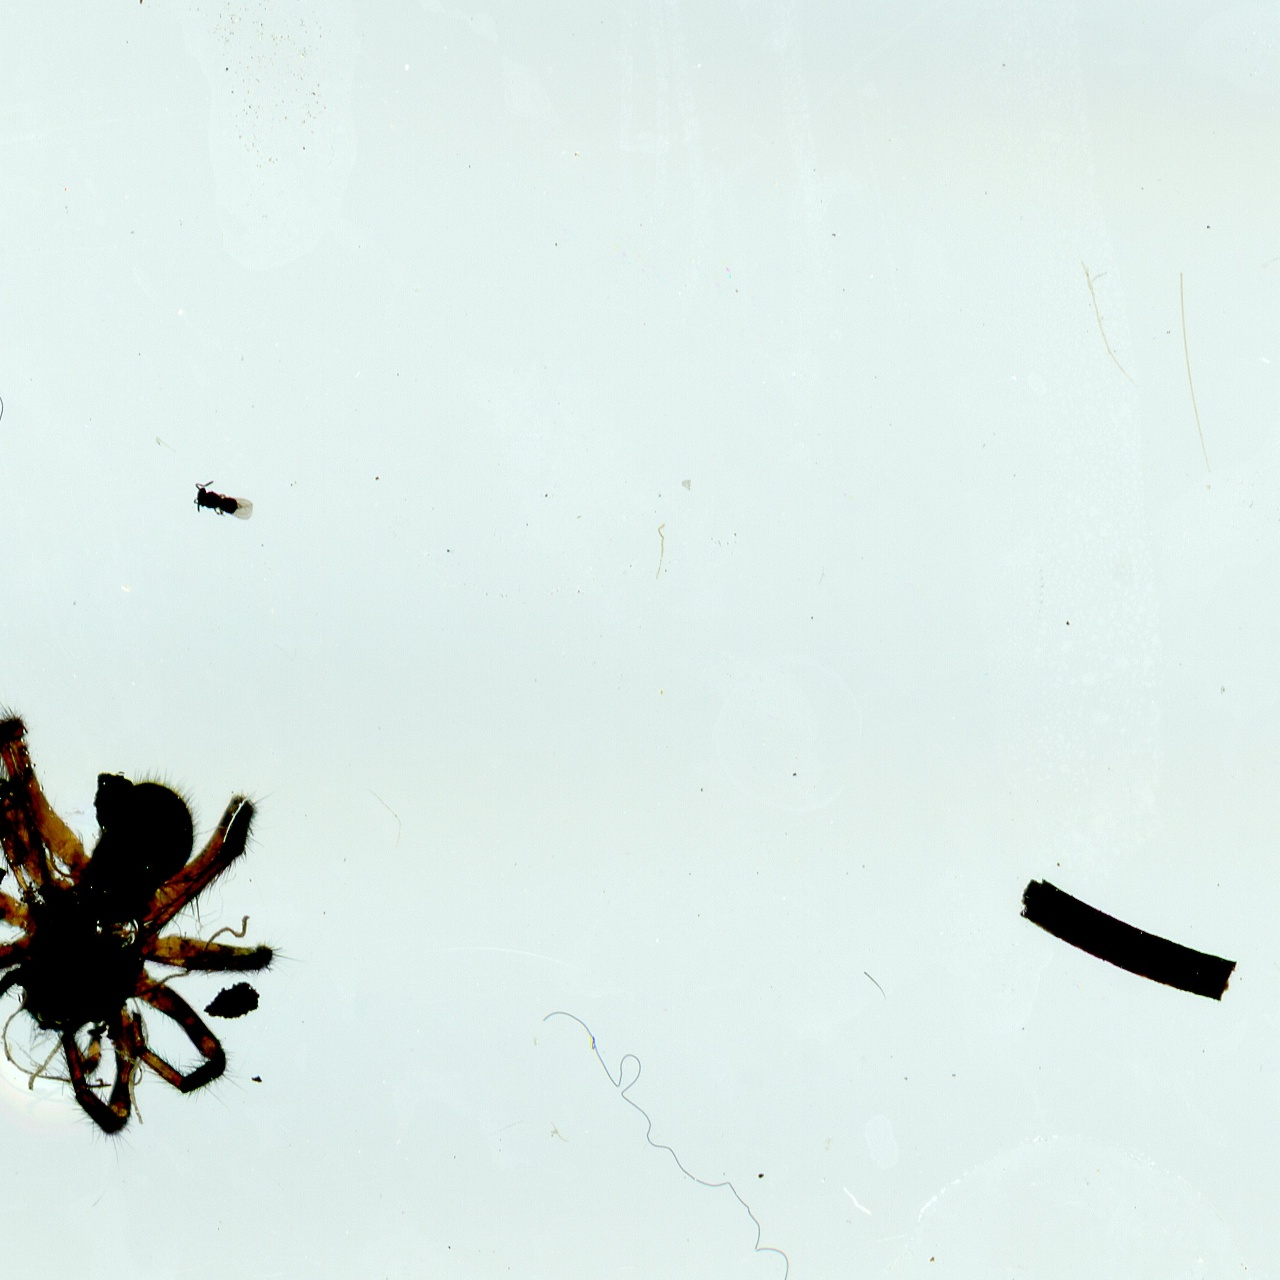arthropod: (0, 696, 274, 1143), (190, 472, 256, 519)
